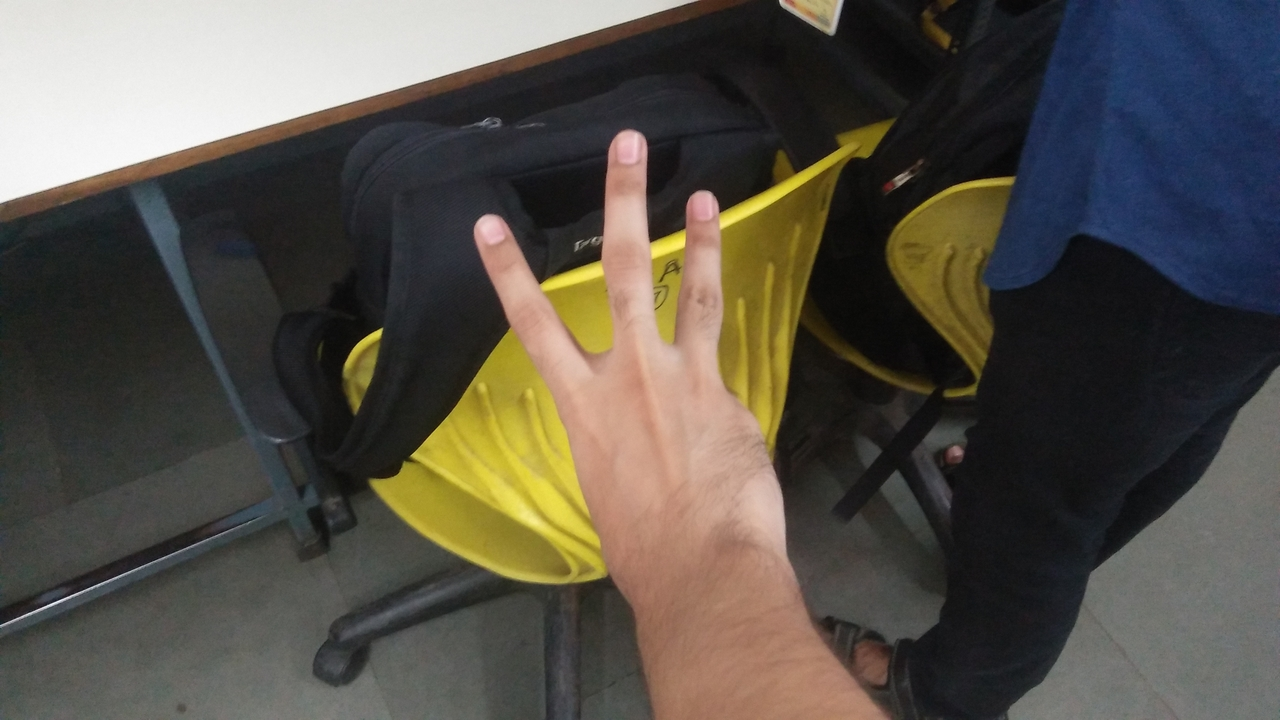fingertip: (462, 202, 520, 262), (600, 122, 654, 176), (676, 182, 728, 232)
